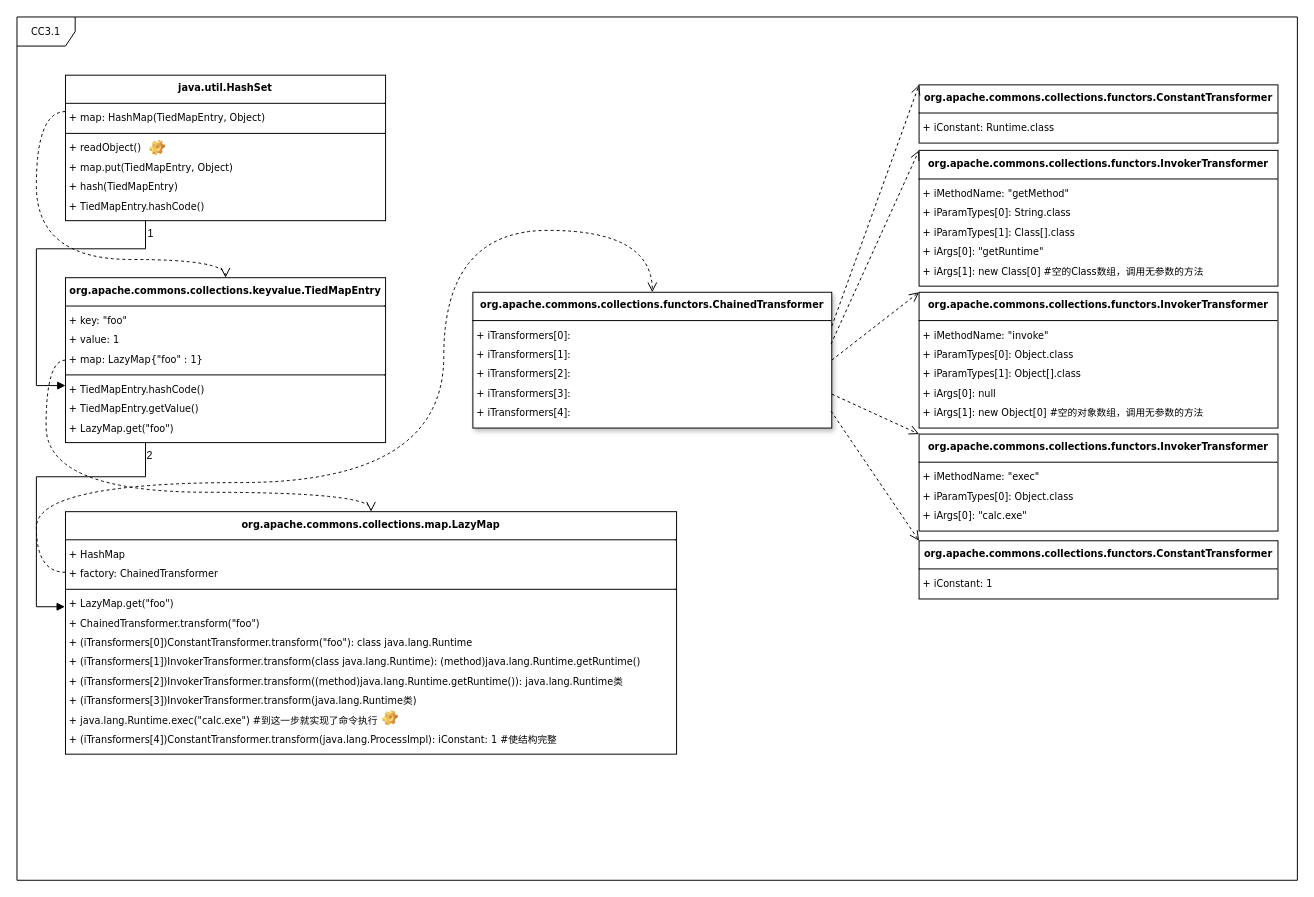
This 1314x897 diagram has some shape labels left out. The centre of each missing label's shape, as x and y in pixels:
"反序列化开始" goes at point (201, 147).
"命令执行结束" goes at point (433, 717).
